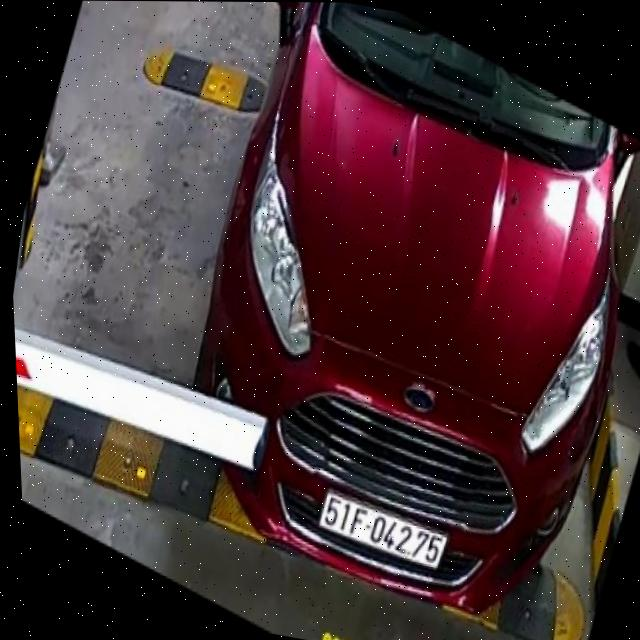car: (137, 1, 640, 640)
plate: (310, 484, 457, 578)
